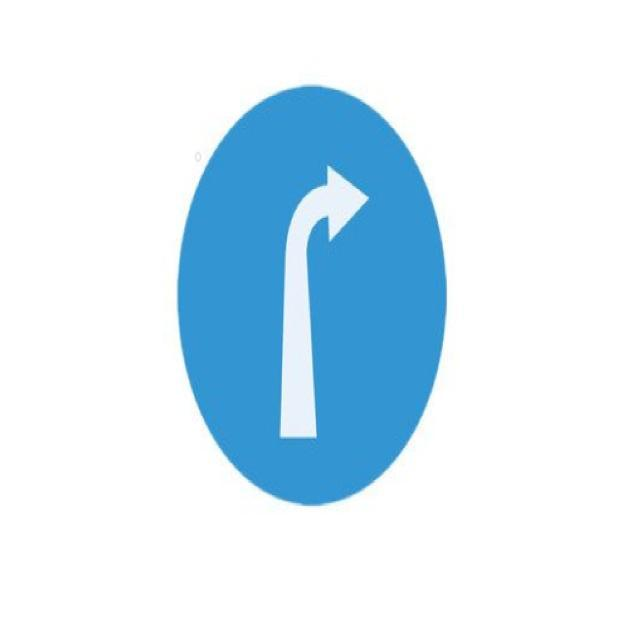compulsary turn right ahead: (175, 85, 447, 502)
